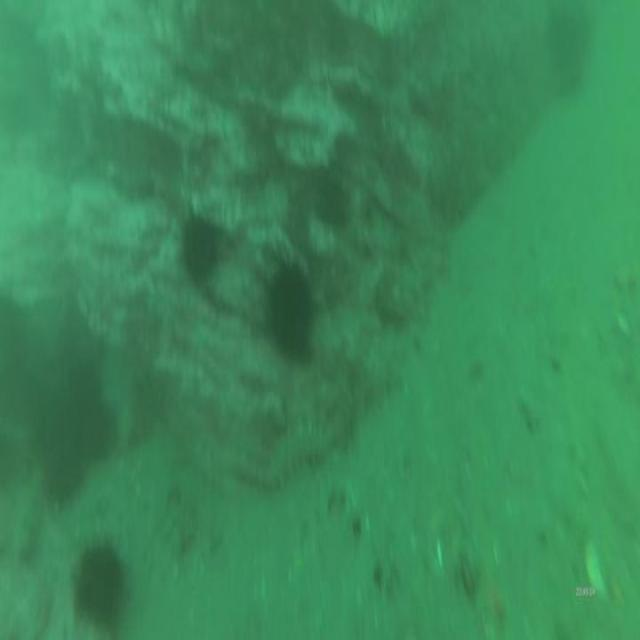echinus: (265, 259, 317, 368), (71, 534, 125, 635), (38, 433, 84, 512), (177, 207, 219, 288), (77, 397, 114, 463), (313, 176, 353, 236), (324, 3, 352, 60)
holothurian: (260, 416, 338, 493)
